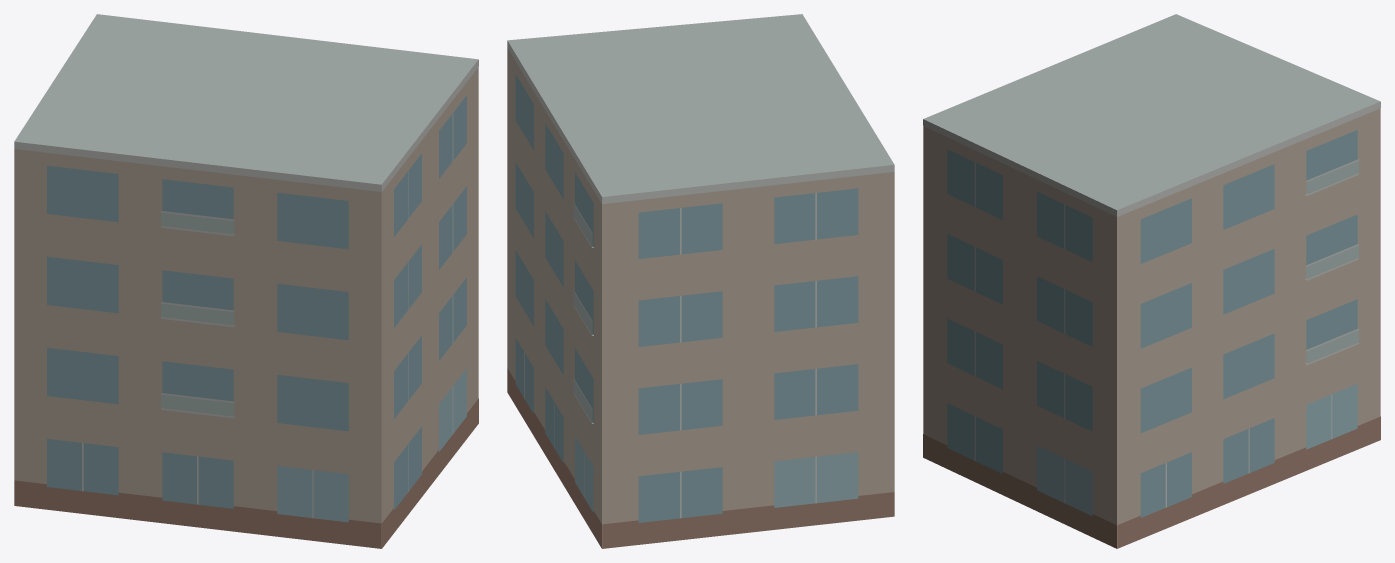
Rendered from survey-upis-32498735.glb.
The picture shows the model from 3 angles, left to right: view 1: azimuth 30°, elevation 25°; view 2: azimuth 150°, elevation 25°; view 3: azimuth 270°, elevation 25°; orthographic projection. The views are drawn at different scales.
Visible parts, largest first — view 1: survey-upis-32498735.tmp; view 2: survey-upis-32498735.tmp; view 3: survey-upis-32498735.tmp.
Part boxes in pixels (x1=…): survey-upis-32498735.tmp: x1=14, y1=14, x2=478, y2=548; survey-upis-32498735.tmp: x1=507, y1=14, x2=894, y2=548; survey-upis-32498735.tmp: x1=923, y1=14, x2=1380, y2=548.
Bounding box in the file's own units: 15.18 × 12.2 × 14.95.
